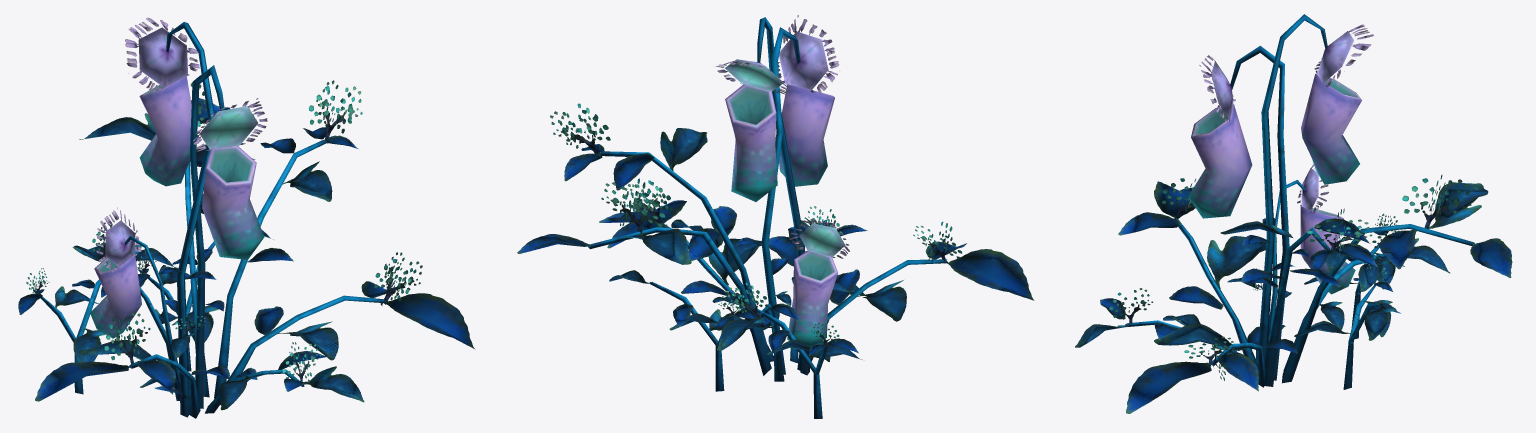
The model's file is S_Plant_Blue002.FBX.
3 renders of one model, left to right at view 1: azimuth 30°, elevation 25°; view 2: azimuth 150°, elevation 25°; view 3: azimuth 270°, elevation 25°, orthographic. The views are drawn at different scales.
Visible parts, largest first — view 1: S_Plant_Blue002; view 2: S_Plant_Blue002; view 3: S_Plant_Blue002.
Part boxes in pixels (x1=…): S_Plant_Blue002: x1=18, y1=17, x2=475, y2=418; S_Plant_Blue002: x1=517, y1=15, x2=1034, y2=418; S_Plant_Blue002: x1=1075, y1=14, x2=1512, y2=413.
Bounding box in the file's own units: 352 × 290 × 323.
